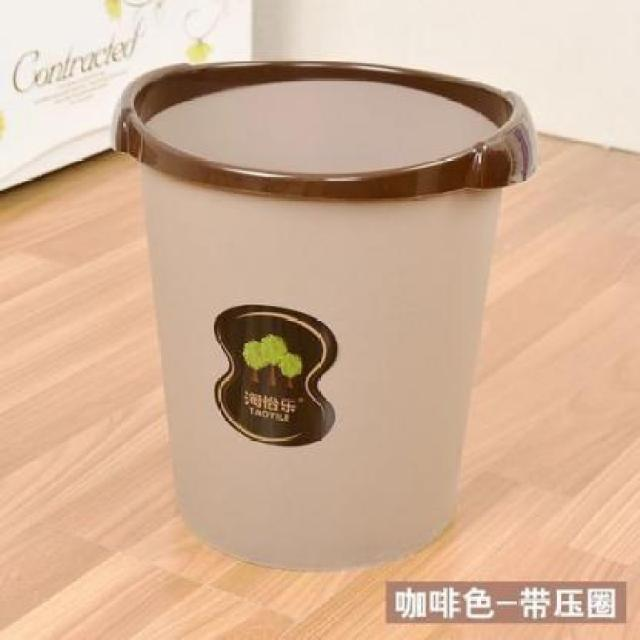dustbin: (105, 54, 543, 578)
